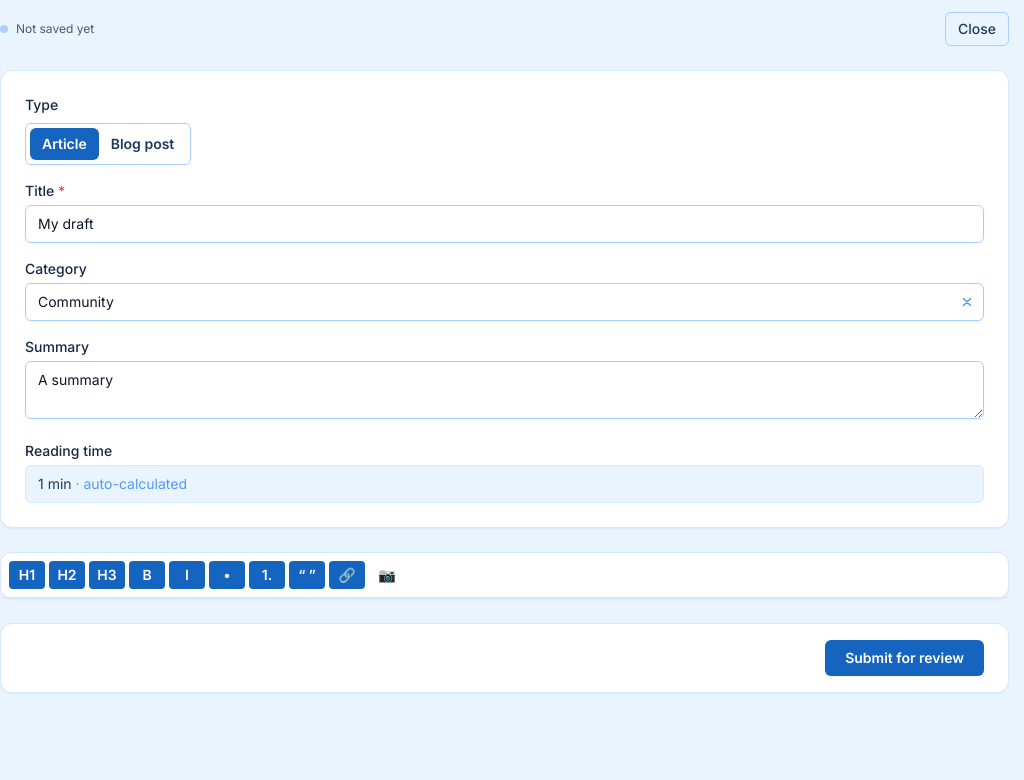
Scenario: DraftEditor › surfaces a submit error
Click the button "Submit for review" at (905, 658), box [825,640,984,676]
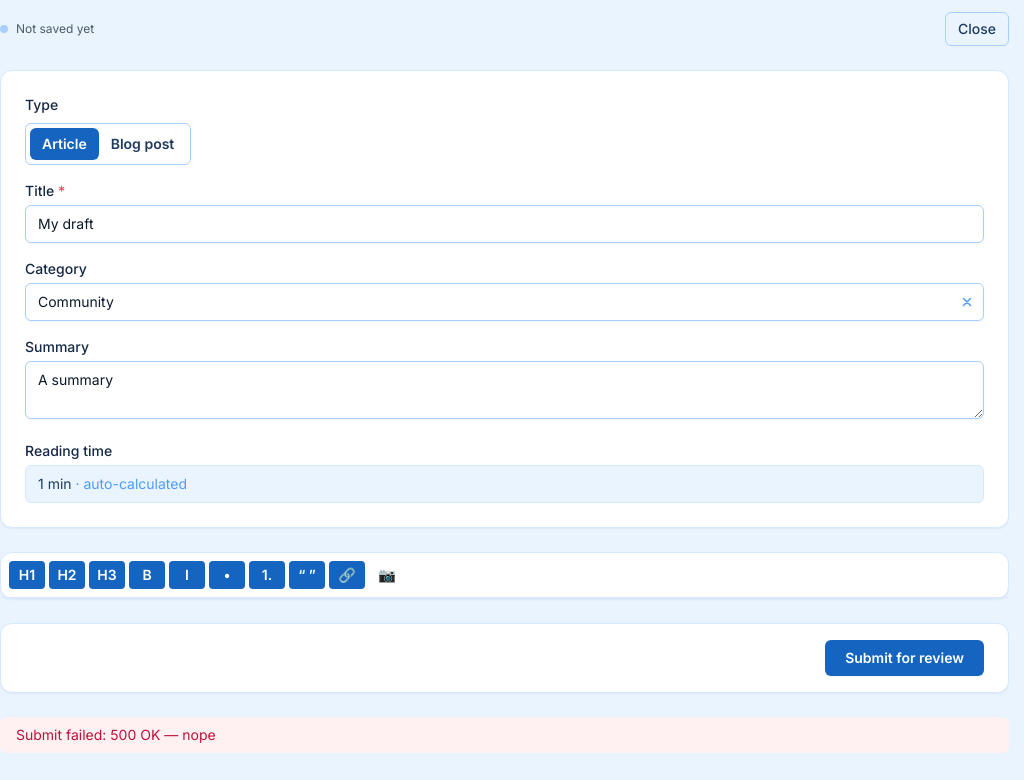
Expected: the text "Submit failed" is shown, [16,726,216,743]
